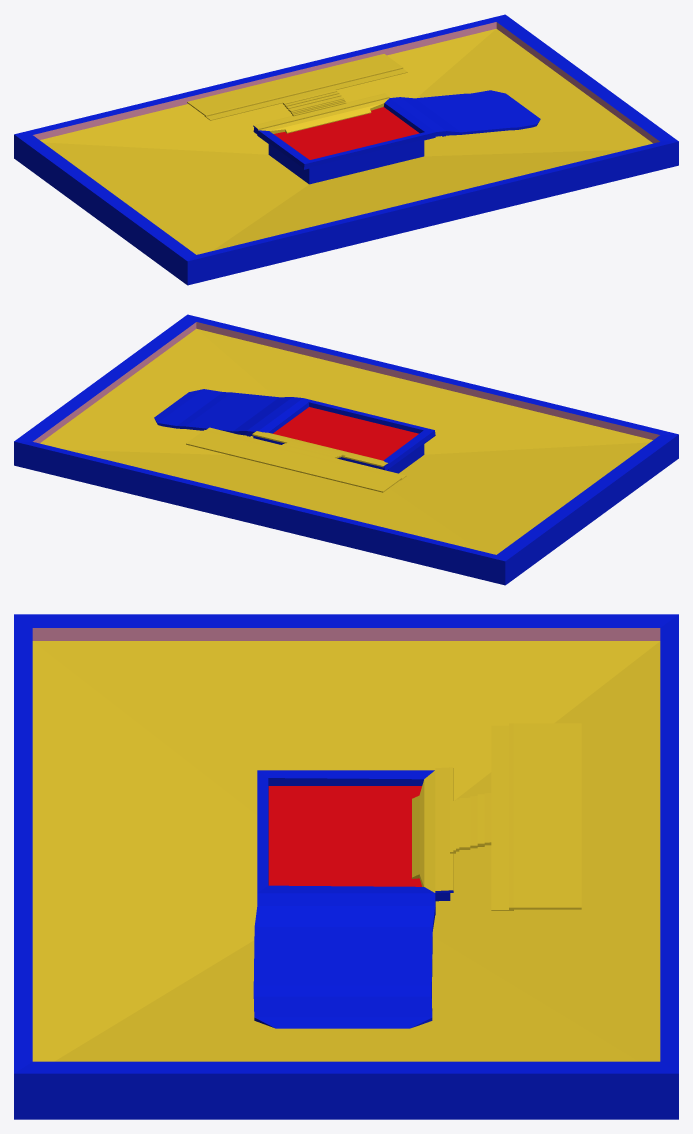
The model's file is floor.gltf.
3 views of the same model, one above another, from view 1: azimuth 30°, elevation 25°; view 2: azimuth 150°, elevation 25°; view 3: azimuth 270°, elevation 25° (orthographic). The views are drawn at different scales.
Parts seen in each view (by area): view 1: Cube; view 2: Cube; view 3: Cube.
Part boxes in pixels (x1=…): Cube: x1=14, y1=14, x2=678, y2=285; Cube: x1=14, y1=314, x2=678, y2=585; Cube: x1=14, y1=614, x2=678, y2=1119.
Bounding box in the file's own units: 327 × 24.92 × 200.
